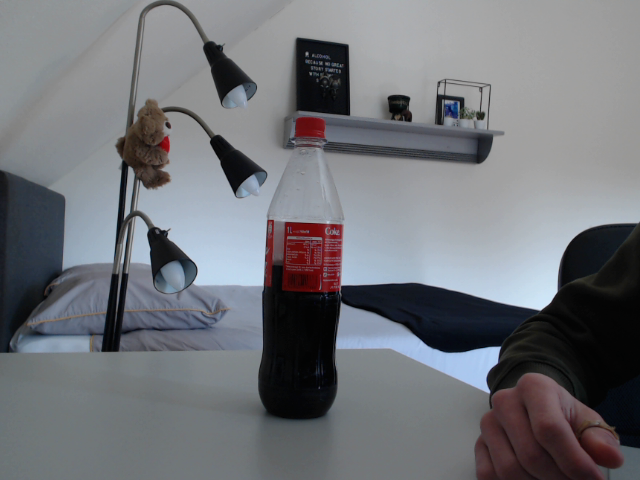bottle: (258, 116, 345, 421)
